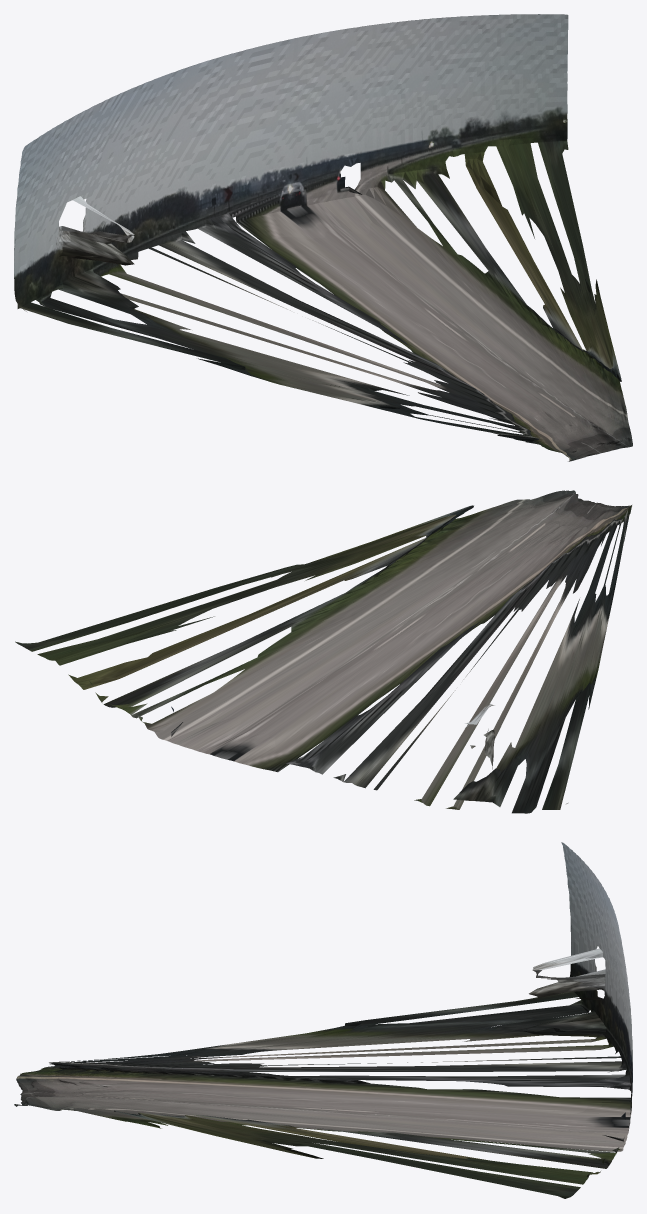
3 renders of one model, top to bottom at view 1: azimuth 30°, elevation 25°; view 2: azimuth 150°, elevation 25°; view 3: azimuth 270°, elevation 25°, orthographic. The views are drawn at different scales.
Parts seen in each view (by area): view 1: defaultobject; view 2: defaultobject; view 3: defaultobject.
Boxes of the visible parts, box(x1,y1,x2,y2) form: defaultobject: box(14, 14, 632, 461); defaultobject: box(15, 490, 631, 813); defaultobject: box(14, 842, 632, 1198).
Bounding box in the file's own units: 41.16 × 13.4 × 44.7.
1 material, 1 textured.
